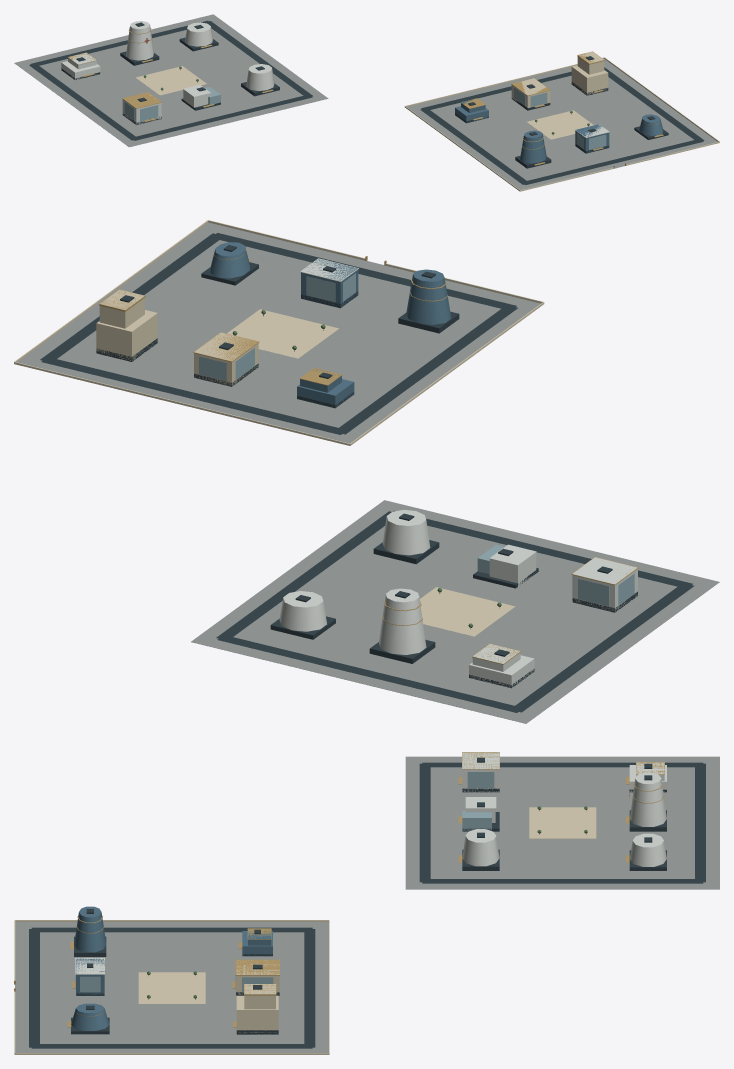
The model's file is GC-TILE-07-03.glb.
The picture shows the model from 3 angles, top to bottom: view 1: azimuth 30°, elevation 25°; view 2: azimuth 150°, elevation 25°; view 3: azimuth 270°, elevation 25°; orthographic projection. The views are drawn at different scales.
Visible parts, largest first — view 1: GC-TILE-07-03-paving, GC-TILE-07-03-dark, GC-TILE-07-03-ivory, GC-TILE-07-03-white, GC-TILE-07-03-blue, GC-TILE-07-03-gold, GC-TILE-07-03-glass; view 2: GC-TILE-07-03-paving, GC-TILE-07-03-dark, GC-TILE-07-03-ivory, GC-TILE-07-03-white, GC-TILE-07-03-blue, GC-TILE-07-03-glass, GC-TILE-07-03-gold; view 3: GC-TILE-07-03-paving, GC-TILE-07-03-dark, GC-TILE-07-03-ivory, GC-TILE-07-03-white, GC-TILE-07-03-blue, GC-TILE-07-03-gold, GC-TILE-07-03-glass.
Part boxes in pixels (box(x1,y1,x2,y2)): GC-TILE-07-03-paving: box(14, 14, 717, 189); GC-TILE-07-03-dark: box(29, 20, 704, 184); GC-TILE-07-03-ivory: box(135, 51, 719, 191); GC-TILE-07-03-white: box(61, 21, 609, 137); GC-TILE-07-03-blue: box(455, 99, 662, 163); GC-TILE-07-03-gold: box(67, 28, 663, 168); GC-TILE-07-03-glass: box(124, 87, 606, 149); GC-TILE-07-03-paving: box(17, 222, 719, 723); GC-TILE-07-03-dark: box(40, 233, 694, 712); GC-TILE-07-03-ivory: box(14, 220, 544, 636); GC-TILE-07-03-white: box(279, 258, 637, 687); GC-TILE-07-03-blue: box(210, 242, 451, 407); GC-TILE-07-03-glass: box(199, 273, 634, 606); GC-TILE-07-03-gold: box(99, 249, 638, 664); GC-TILE-07-03-paving: box(15, 756, 719, 1052); GC-TILE-07-03-dark: box(29, 757, 705, 1048); GC-TILE-07-03-ivory: box(14, 807, 596, 1054); GC-TILE-07-03-white: box(75, 752, 666, 974); GC-TILE-07-03-blue: box(71, 906, 272, 1030); GC-TILE-07-03-gold: box(14, 752, 664, 1027); GC-TILE-07-03-glass: box(75, 772, 494, 992).
Size of the model in its own units: 758 by 54.48 by 759.
